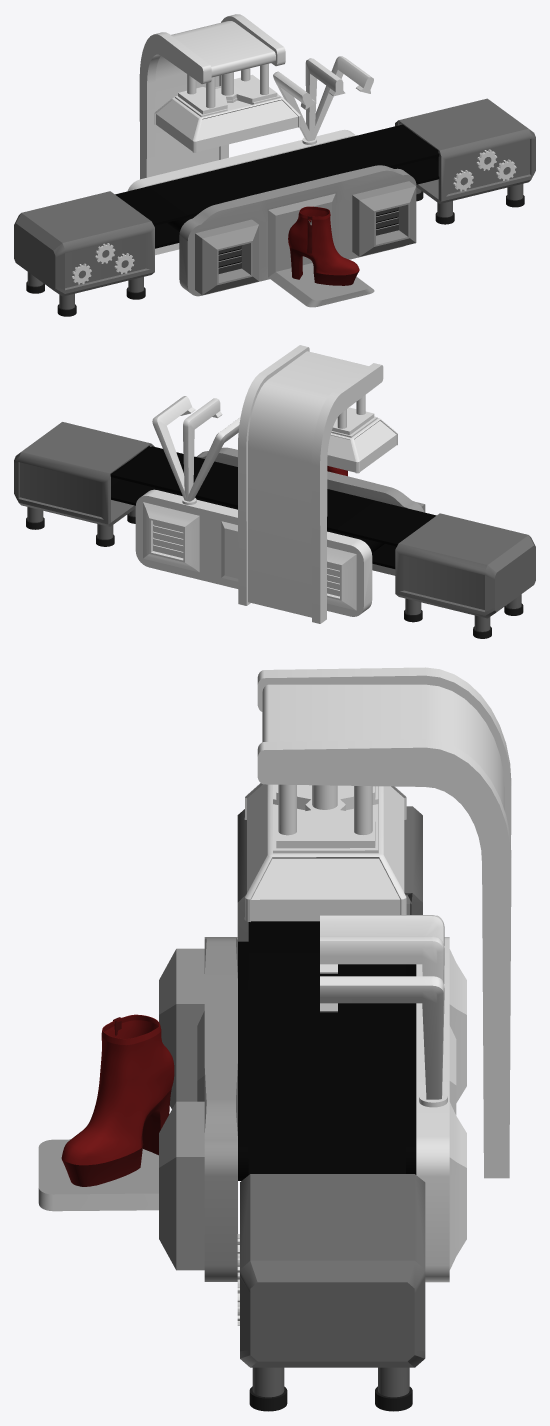
Rendered from ayakkabmak3.fbx.
The picture shows the model from 3 angles, top to bottom: view 1: azimuth 30°, elevation 25°; view 2: azimuth 150°, elevation 25°; view 3: azimuth 270°, elevation 25°; orthographic projection. The views are drawn at different scales.
Visible parts, largest first — view 1: Cube.078, Circle.167, Plane.014, Circle.196, Circle.213, Cylinder.199, s4studio_mesh_1_geom.028, Cube.080, Cube.083, Cube.082, Cube.081, Cylinder.214 (+3 smaller); view 2: Plane.014, Cube.080, Circle.196, Circle.213, Circle.167, Cylinder.199, Cube.078, Cube.083, Cube.082, Cube.081, Circle.168, Cylinder.212 (+3 smaller); view 3: Plane.014, Circle.213, Circle.167, Cube.078, Cylinder.199, s4studio_mesh_1_geom.028, Cube.080, Cube.083, Circle.168, Cube.082, Circle.196, Cube.081 (+4 smaller).
Part boxes in pixels (x1,y1,x2,y2): Cube.078: (179,165,416,307); Circle.167: (115,124,439,248); Plane.014: (139,14,285,179); Circle.196: (14,191,154,296); Circle.213: (395,98,535,203); Cylinder.199: (154,74,300,152); s4studio_mesh_1_geom.028: (288,206,359,285); Cube.080: (127,129,355,255); Cube.083: (311,56,373,140); Cube.082: (305,58,345,136); Cube.081: (273,71,315,141); Cylinder.214: (506,184,524,207); Plane.014: (238,345,383,623); Cube.080: (135,489,372,616); Circle.196: (395,513,535,618); Circle.213: (14,422,154,526); Circle.167: (110,446,436,568); Cylinder.199: (327,407,397,473); Cube.078: (196,447,425,575); Cube.083: (152,396,195,500); Cube.082: (183,398,222,500); Cube.081: (187,417,240,501); Circle.168: (153,488,384,552); Cylinder.212: (404,598,422,622); Plane.014: (257,667,511,1178); Circle.213: (240,1174,425,1367); Circle.167: (248,895,405,1174); Cube.078: (38,937,237,1281); Cylinder.199: (244,783,406,921); s4studio_mesh_1_geom.028: (61,1014,174,1186); Cube.080: (416,937,466,1282); Cube.083: (320,976,444,1099); Circle.168: (238,941,416,1180); Cube.082: (320,936,444,983); Circle.196: (237,806,422,941); Cube.081: (320,915,444,945).
Size of the model in its own units: 1410 by 604 by 601.
